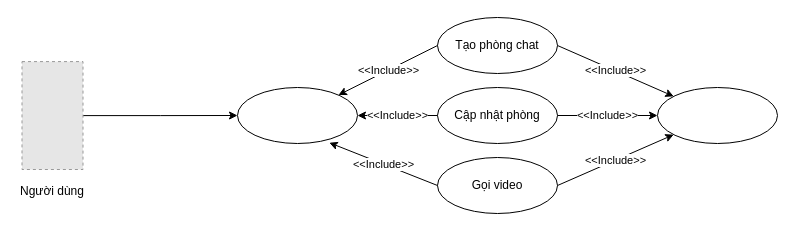
This 795x231 diagram has some shape labels left out. Grey dashed boxes stand in for pictures. Here are the shapes that lost their labels. From the top down, the box of each, then its label:
(236, 86, 358, 144): Quản lý phòng chat
(656, 86, 778, 144): Hiển thị
